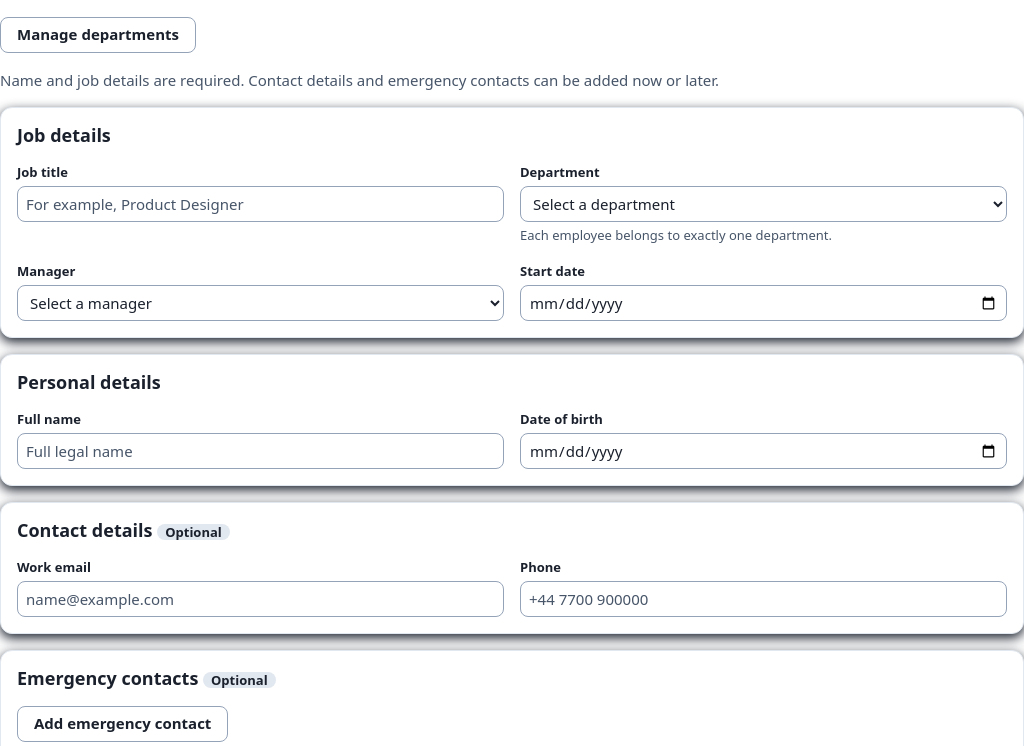
Test case: EmployeeRecordPage: new record › does not save when Manager is missing (AC8)
In the field labelled "Job title": (260, 204) [17,186,504,222], type "Product Designer"
Select "Design" in the dropdown labelled "Department": (764, 204) [520,186,1007,222]
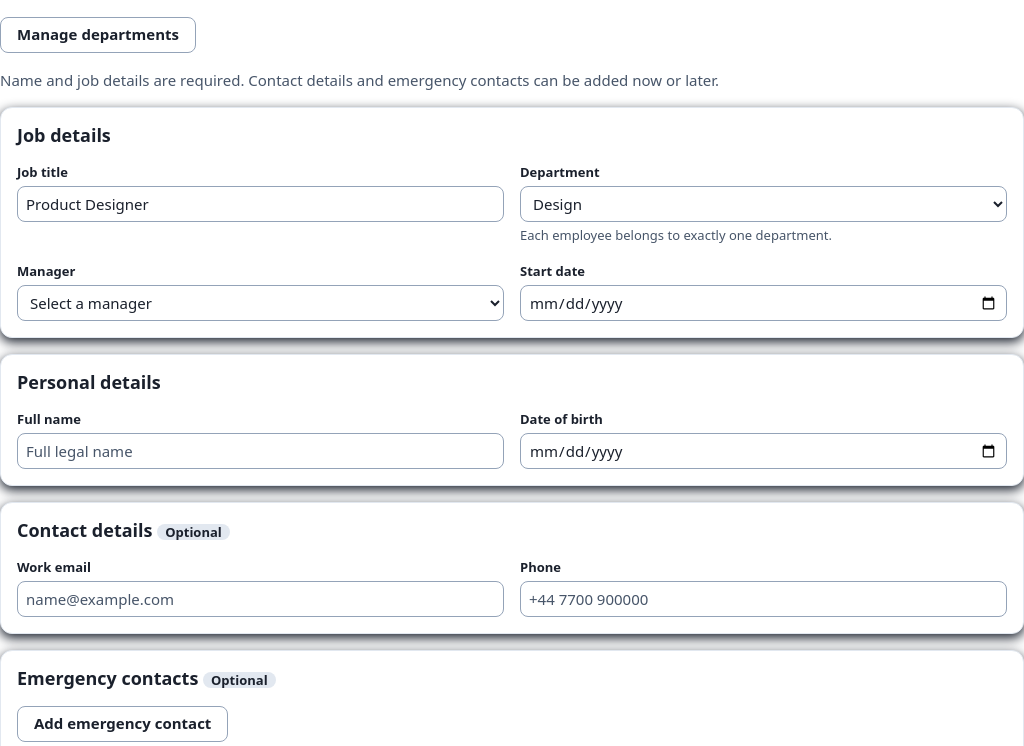
Select "Ana Costa" in the dropdown labelled "Manager": (260, 303) [17,285,504,321]
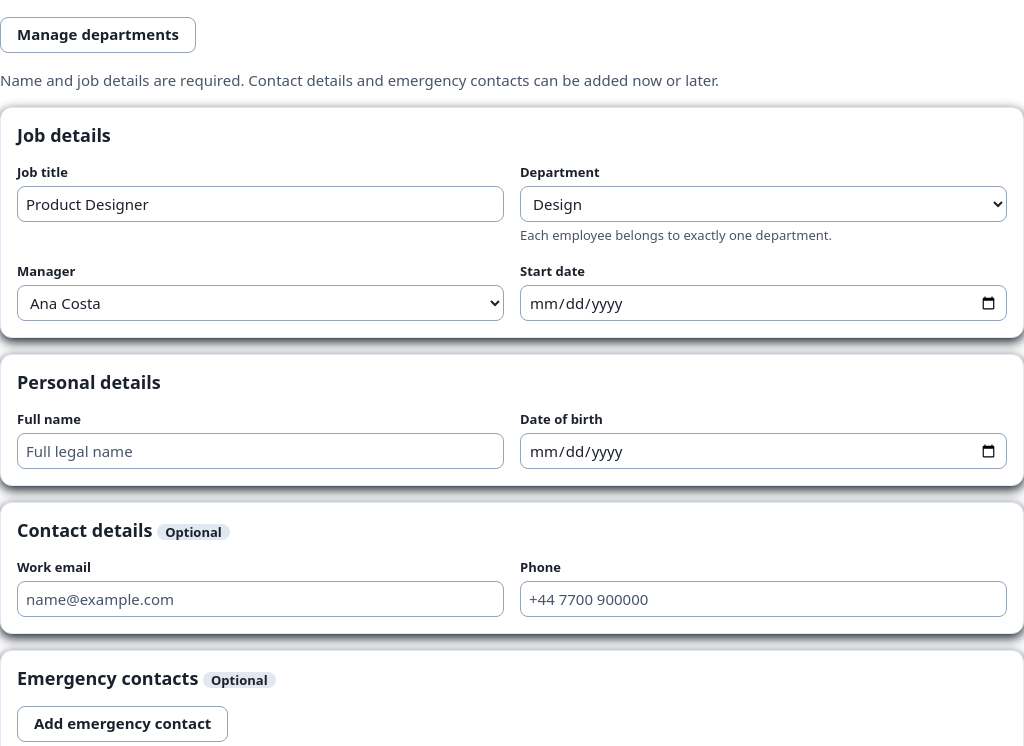
In the date field labelled "Start date": (764, 303) [520,285,1007,321], type "2026-03-02"
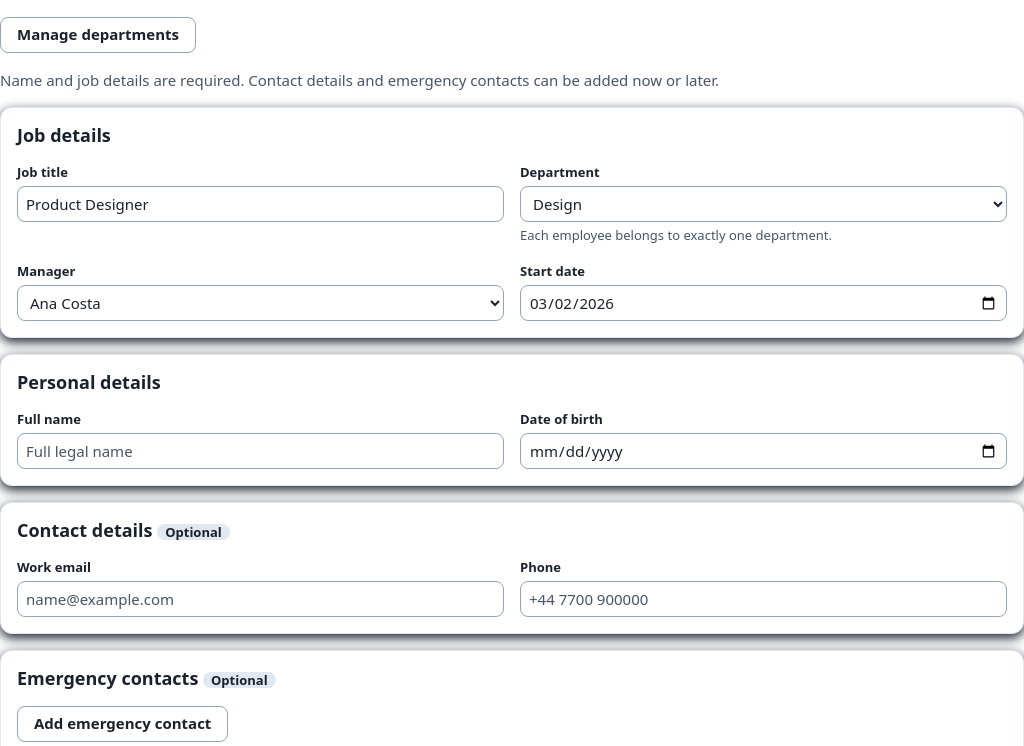
In the field labelled "Full name": (260, 451) [17,433,504,469], type "Priya Shah"
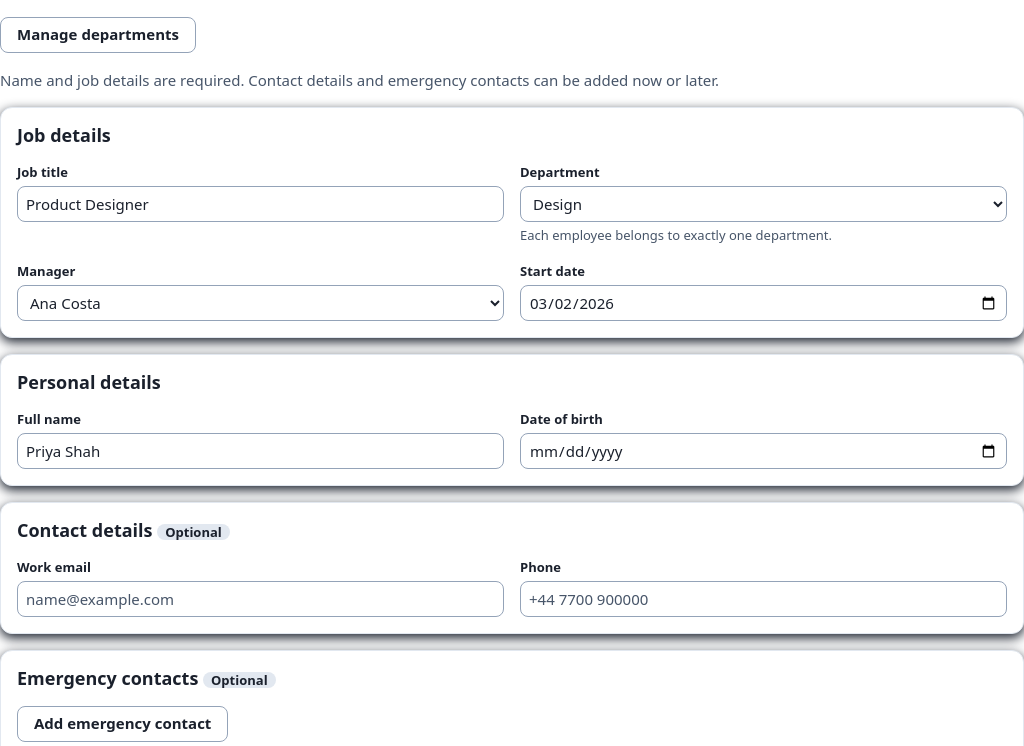
Select "Select a manager" in the dropdown labelled "Manager": (260, 303) [17,285,504,321]
(page scrolled)
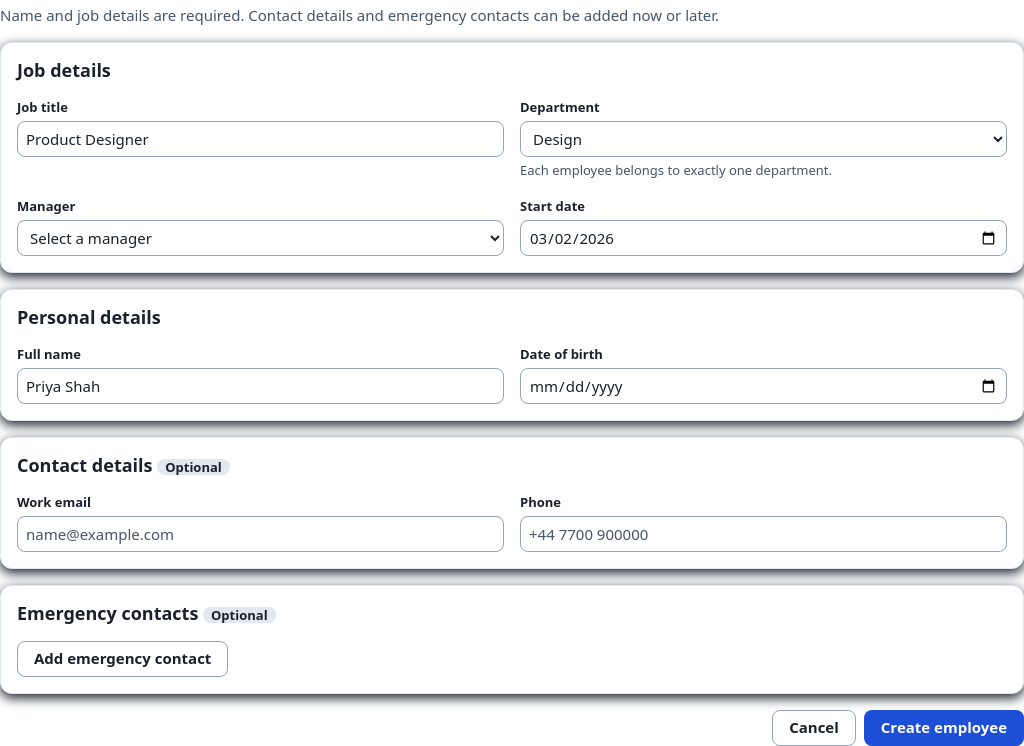
Click the button "Create employee": (944, 728) [864,710,1023,745]
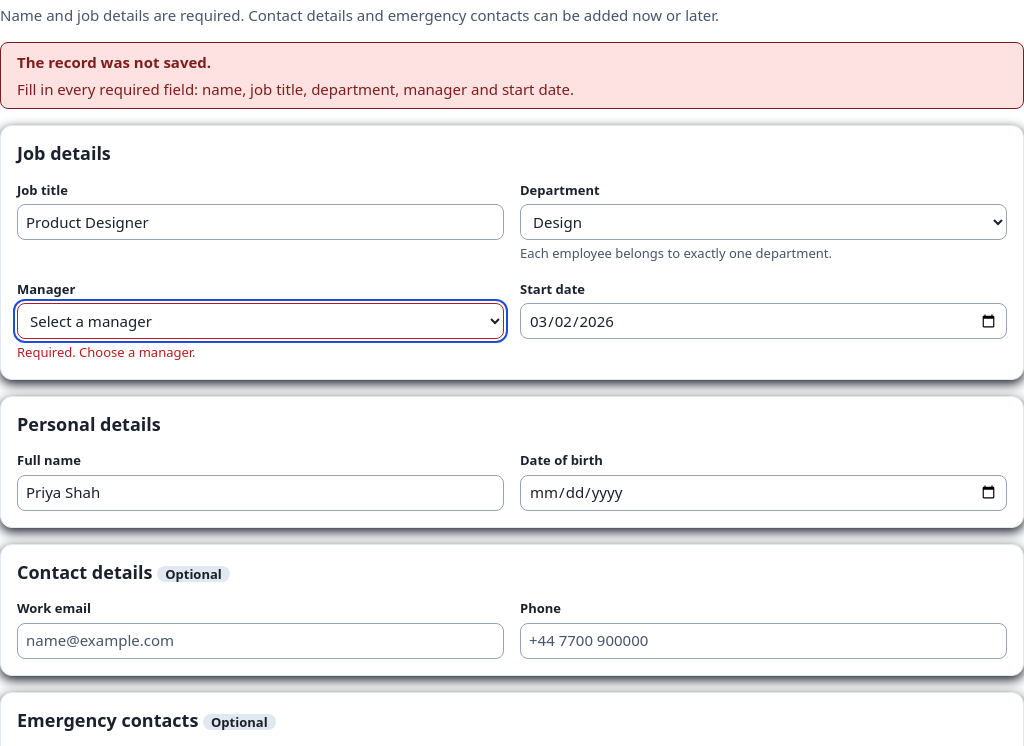
Check: the text "The record was not saved." is shown, box [17,52,211,72]
